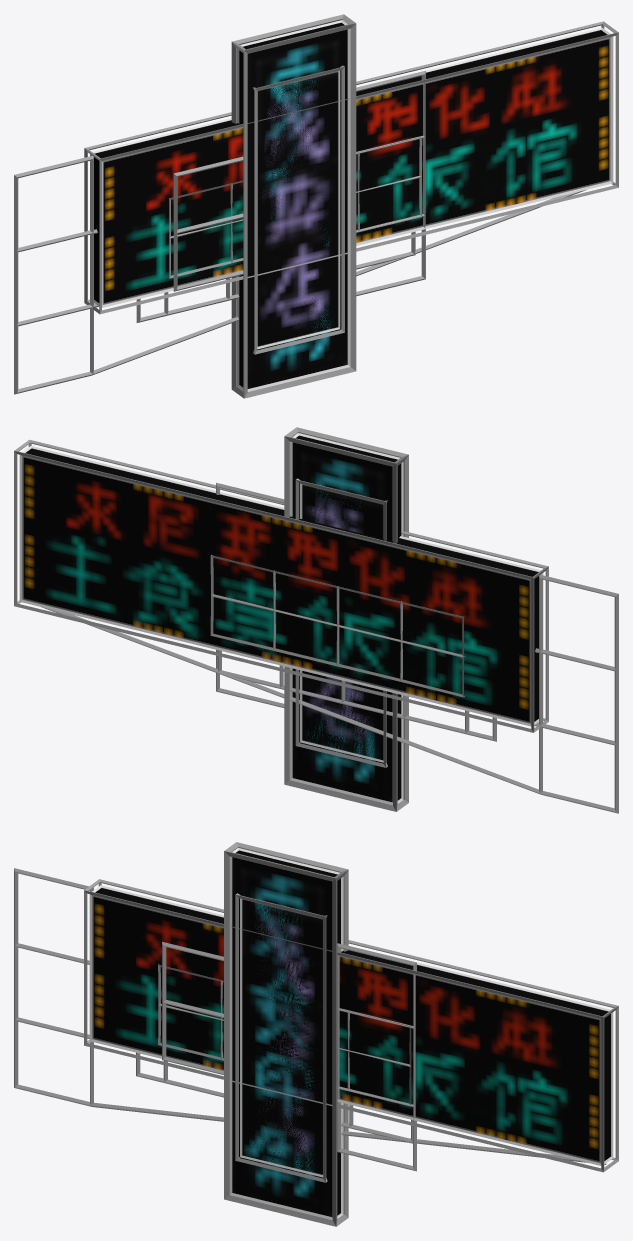
File: Signs.fbx
The picture shows the model from 3 angles, top to bottom: view 1: azimuth 30°, elevation 25°; view 2: azimuth 150°, elevation 25°; view 3: azimuth 330°, elevation 25°; orthographic projection.
Parts seen in each view (by area): view 1: Sign 4, Sign 1, Sign 2, Sign 3; view 2: Sign 4, Sign 1, Sign 2, Sign 3; view 3: Sign 4, Sign 1, Sign 2, Sign 3.
Part boxes in pixels (x1,y1,x2,y2): Sign 4: (14,21,618,394); Sign 1: (231,14,425,398); Sign 2: (173,65,344,354); Sign 3: (136,137,422,322); Sign 4: (14,439,618,813); Sign 1: (216,427,408,811); Sign 2: (295,478,387,767); Sign 3: (210,555,496,741); Sign 4: (14,868,618,1172); Sign 1: (224,842,416,1226); Sign 2: (162,893,327,1182); Sign 3: (136,964,412,1143).
Size of the model in its own units: 150 by 83.53 by 7.63.
